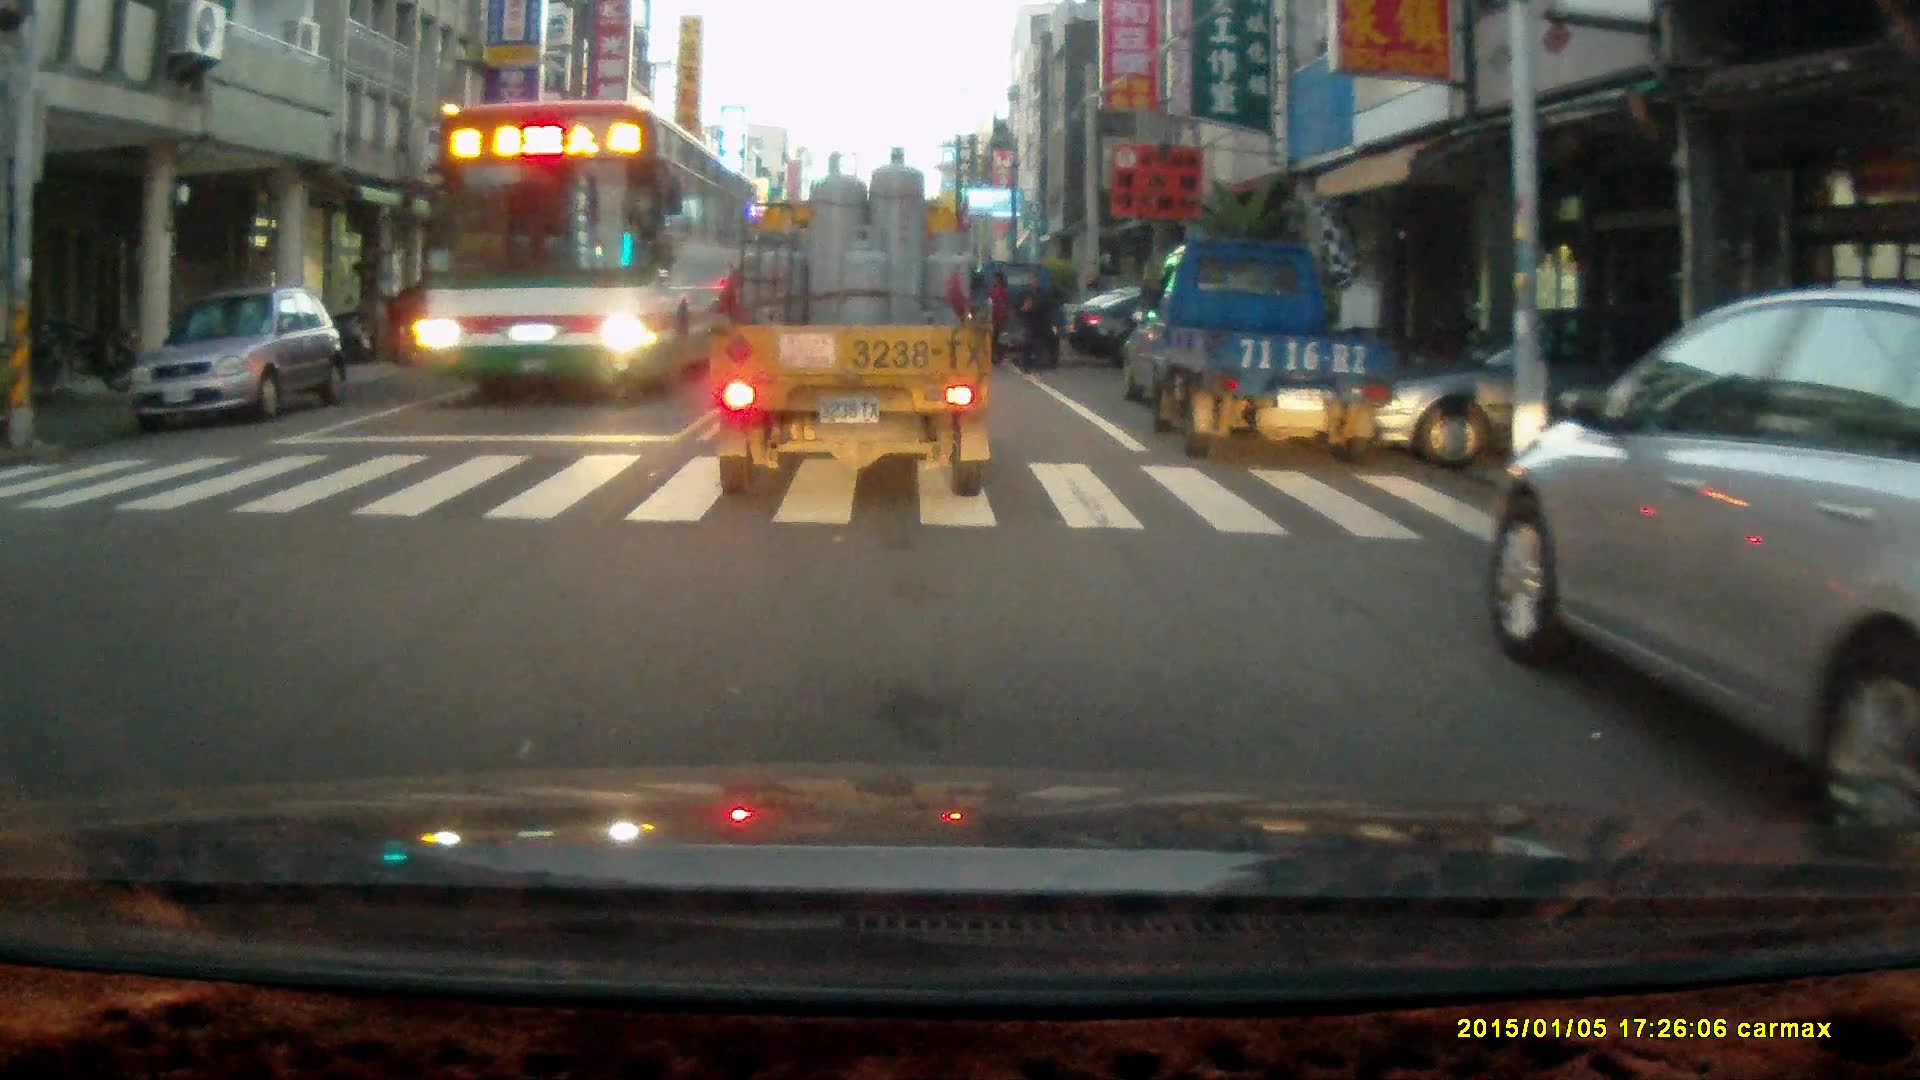pedestrian: (1010, 270, 1057, 382), (981, 266, 1010, 372)
vehicle: (1490, 285, 1920, 821), (706, 144, 998, 501), (417, 101, 751, 399), (1127, 234, 1395, 458), (1392, 336, 1709, 468), (128, 290, 346, 433), (341, 282, 533, 368), (972, 260, 1070, 371)
